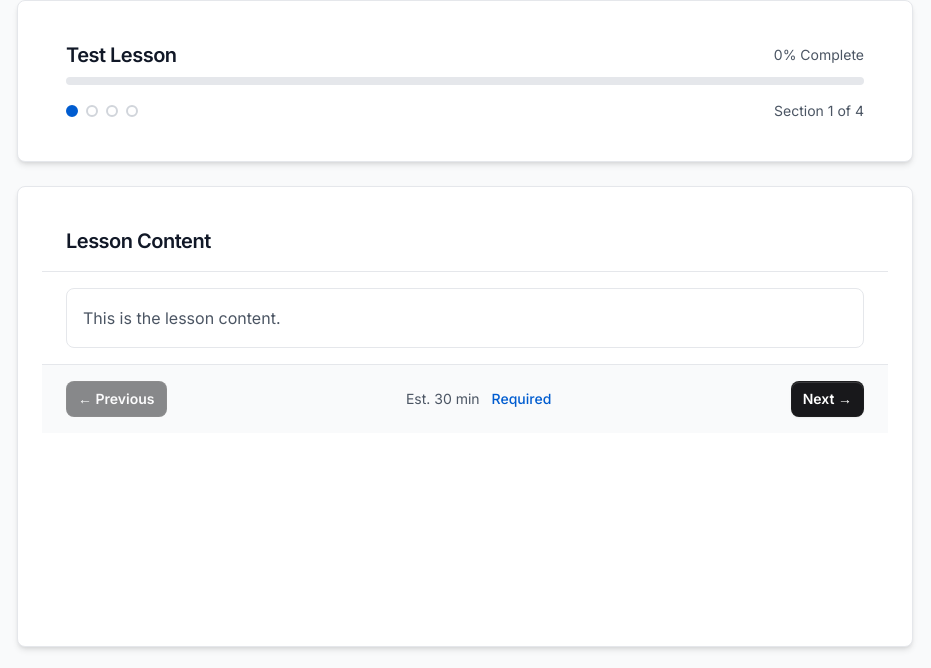
LessonViewer › Navigation › navigates to previous section when previous button is clicked
Note: Go to next section first
What coordinates should you click on to do the following:
click the button "Next →"
I would click on:
 (827, 399)
Its box is [791,381,864,417].
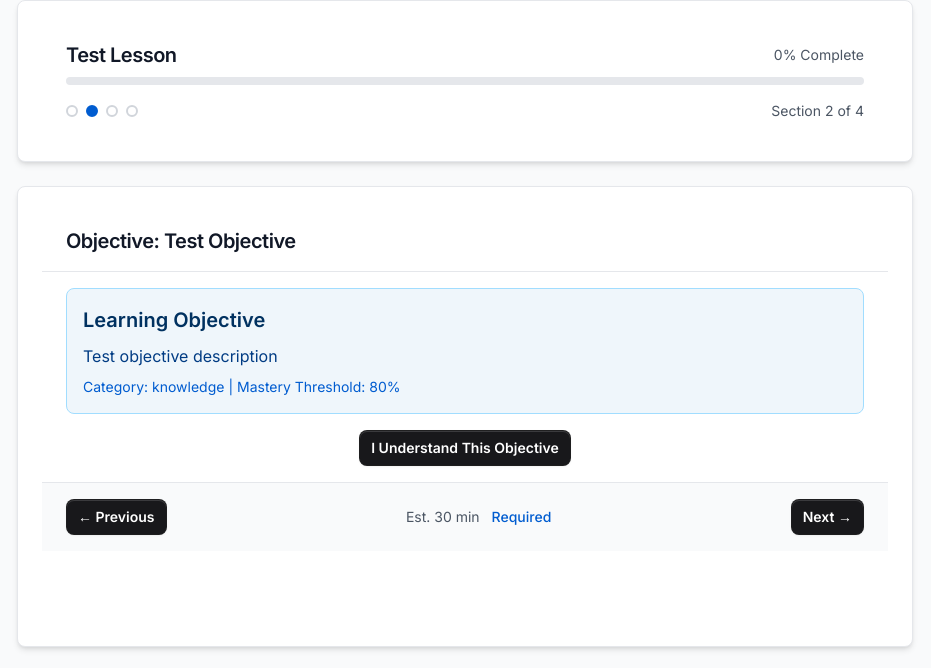
Check: the heading "Objective: Test Objective" is shown, box [66,227,296,255]
Note: Then go back
What coordinates should you click on to do the following:
click the button "← Previous"
I would click on:
 (116, 517)
Its box is [66,499,166,535].
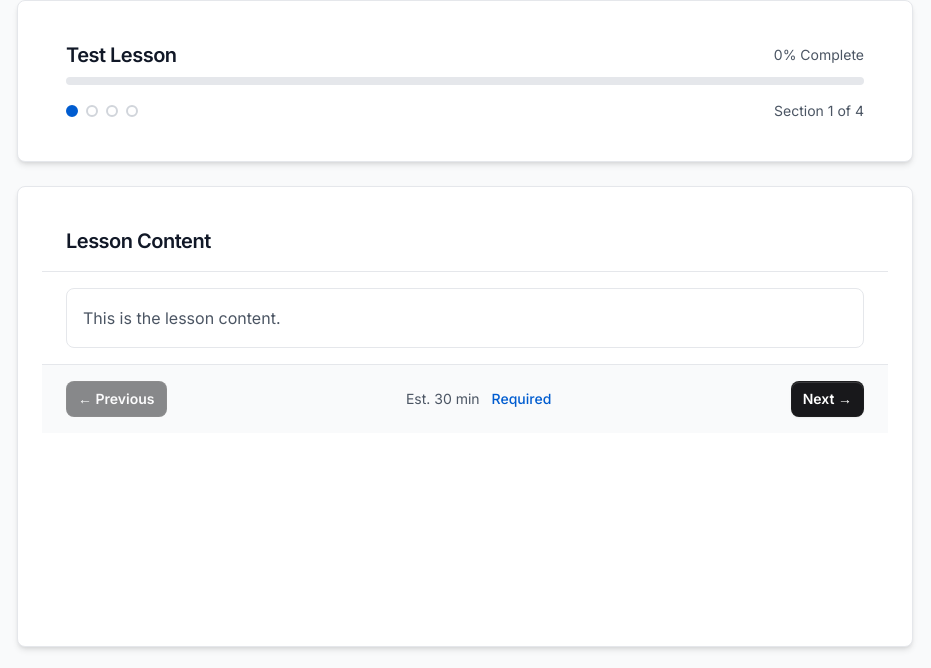
Check: the heading "Lesson Content" is shown, box [66,227,211,255]
